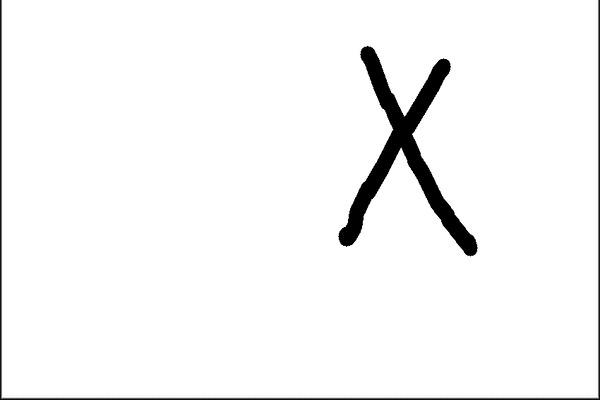X: (309, 20, 507, 261)
